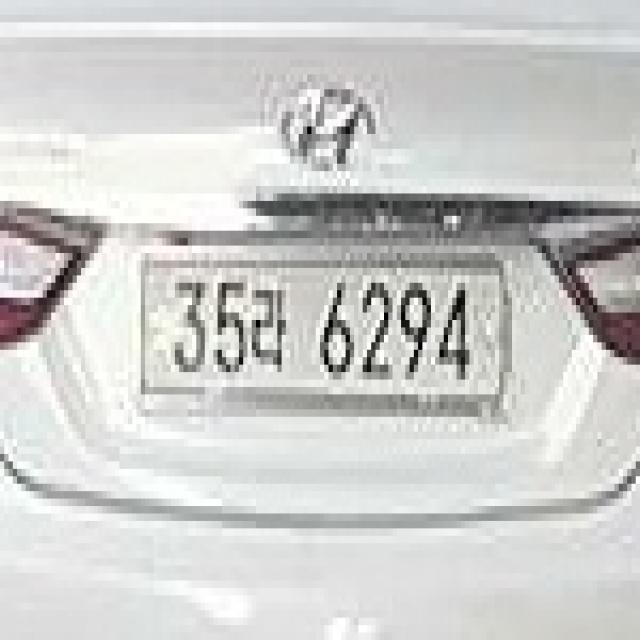2: (358, 268, 392, 379)
3: (175, 276, 209, 380)
4: (435, 276, 474, 380)
5: (214, 276, 248, 380)
6: (316, 276, 358, 380)
9: (397, 276, 431, 380)
la: (248, 283, 290, 372)
license_plate: (137, 246, 512, 409)
